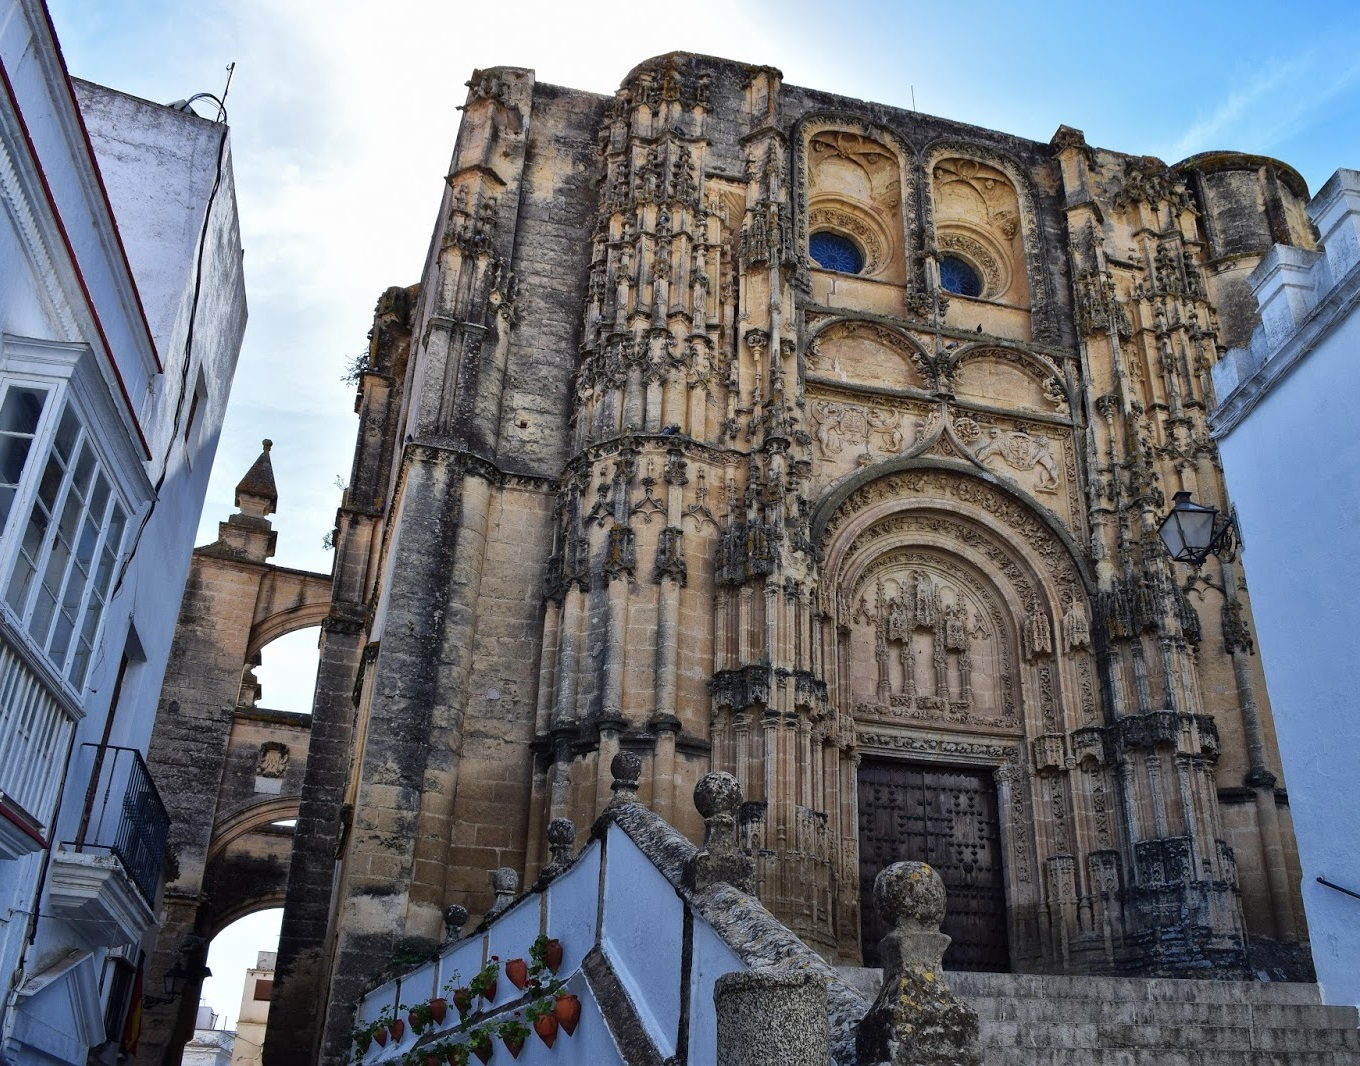arco-conopial: (817, 420, 1059, 510)
